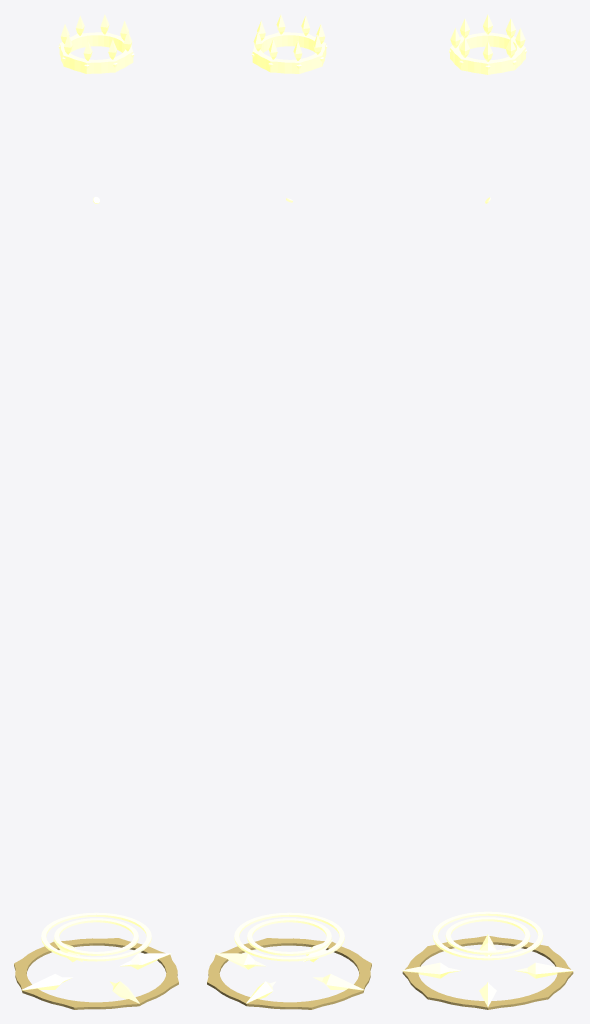
Rendered from card_anim_royal_crown.glb.
3 renders of one model, left to right at view 1: azimuth 30°, elevation 25°; view 2: azimuth 150°, elevation 25°; view 3: azimuth 270°, elevation 25°, orthographic.
Parts seen in each view (by area): view 1: Compass_Ring, Crown_Band, RoyalHalo_Low, RoyalHalo_High, CompassPetal_0, CompassPetal_2; view 2: Compass_Ring, Crown_Band, RoyalHalo_Low, RoyalHalo_High, CompassPetal_0, CompassPetal_2; view 3: Compass_Ring, Crown_Band, RoyalHalo_Low, RoyalHalo_High, CompassPetal_1, CompassPetal_3.
Boxes of the visible parts, <box> form: Compass_Ring: <box>14,938,178,1009</box>; Crown_Band: <box>59,32,133,73</box>; RoyalHalo_Low: <box>41,912,151,961</box>; RoyalHalo_High: <box>54,918,138,955</box>; CompassPetal_0: <box>119,953,171,969</box>; CompassPetal_2: <box>21,974,72,990</box>; Compass_Ring: <box>207,938,371,1009</box>; Crown_Band: <box>252,32,326,73</box>; RoyalHalo_Low: <box>234,912,344,961</box>; RoyalHalo_High: <box>247,918,331,955</box>; CompassPetal_0: <box>214,953,266,969</box>; CompassPetal_2: <box>313,974,364,990</box>; Compass_Ring: <box>402,936,573,1009</box>; Crown_Band: <box>450,32,525,74</box>; RoyalHalo_Low: <box>432,911,543,960</box>; RoyalHalo_High: <box>445,917,530,954</box>; CompassPetal_1: <box>514,962,574,978</box>; CompassPetal_3: <box>401,962,461,978</box>.
Size of the model in its own units: 0.0216 by 0.1293 by 0.0216.
